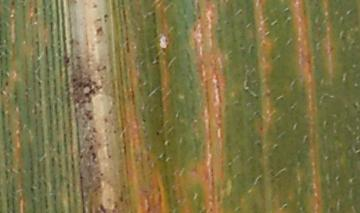tarspot: (70, 76, 102, 106), (152, 49, 168, 65), (93, 65, 108, 73), (117, 190, 125, 203), (62, 55, 71, 66), (84, 109, 93, 120), (279, 202, 290, 211), (95, 25, 104, 34), (98, 202, 105, 213), (102, 11, 108, 23), (311, 1, 321, 8), (2, 47, 10, 55), (91, 3, 98, 11), (87, 143, 94, 151), (191, 25, 198, 33), (352, 101, 357, 112), (90, 151, 96, 160), (91, 125, 97, 134), (32, 6, 38, 15), (98, 170, 104, 178), (4, 80, 10, 88), (196, 14, 202, 22), (8, 137, 13, 146), (95, 16, 102, 22), (140, 117, 146, 124), (6, 129, 13, 135), (329, 46, 334, 53), (9, 1, 14, 7), (28, 186, 34, 191), (155, 130, 159, 136)
